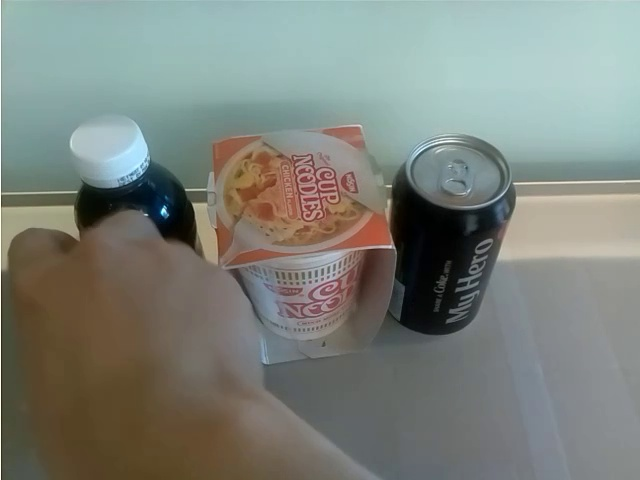cocacola-zero: (391, 132, 517, 336)
hand: (2, 209, 263, 480)
juice: (66, 114, 197, 251)
noodles: (199, 123, 398, 364)
